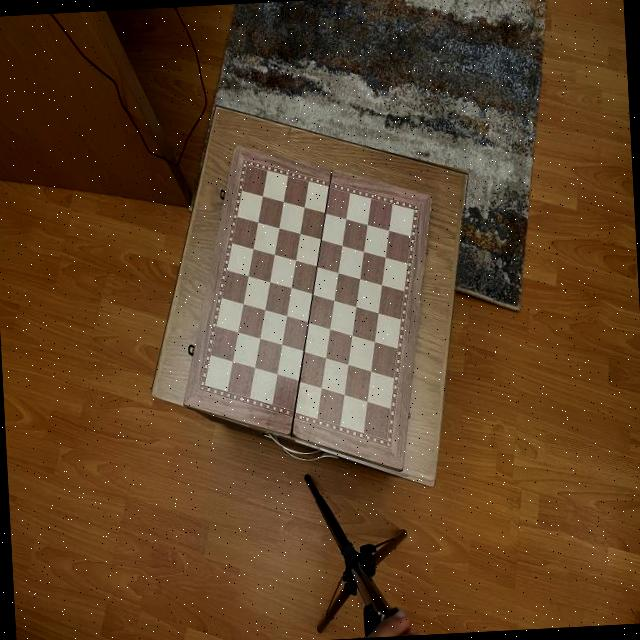corners: (171, 392, 194, 415), (418, 188, 441, 210), (390, 459, 411, 478), (233, 138, 251, 156)
